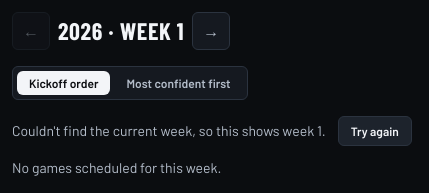
Test: GamesPage › drops the week-1 notice once the visitor moves to another week
Expected: the text "Couldn't find the current week, so this shows week 1." is shown, [12, 121, 326, 141]
Click the button named "Next week". click: [211, 31]
box: [192, 12, 230, 50]
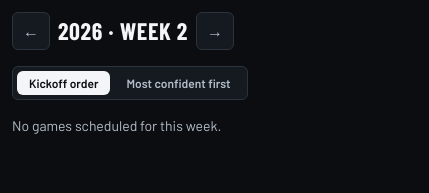
Expected: the text "Couldn't find the current week" is gone
